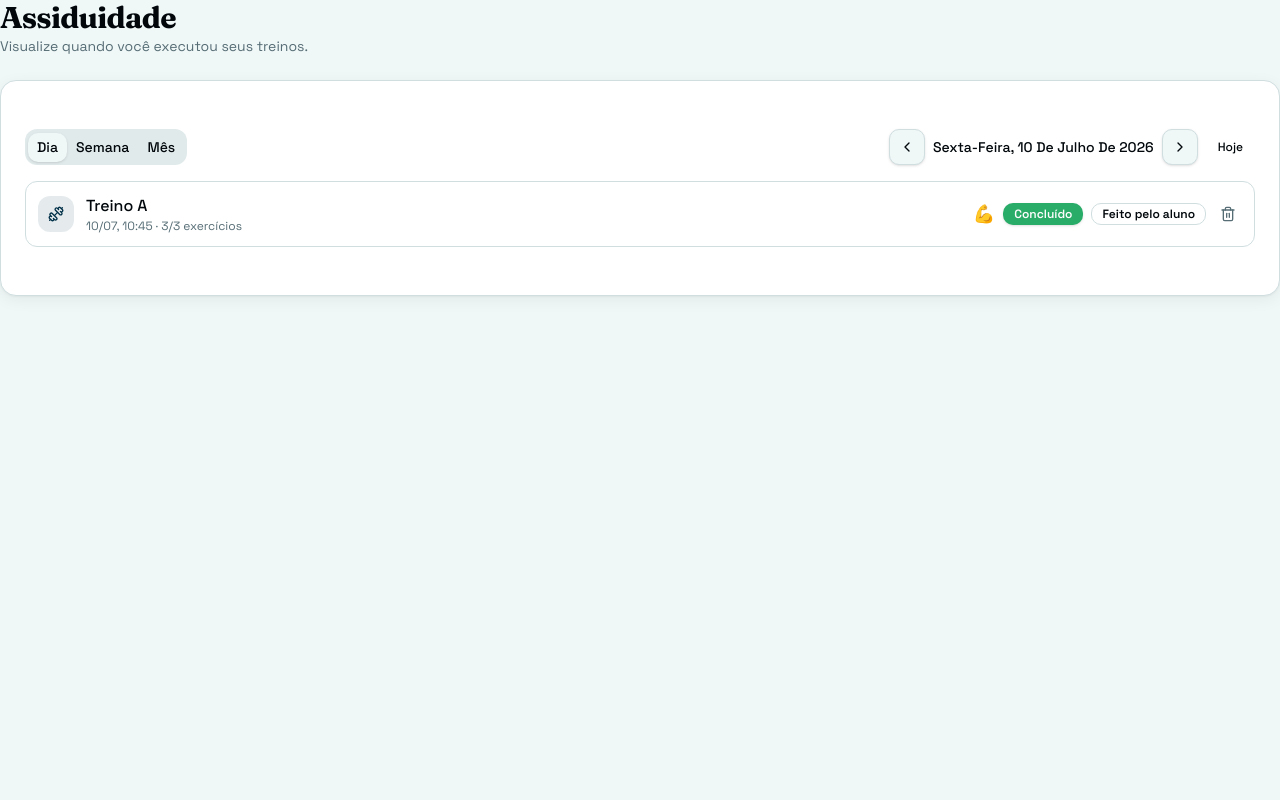
Scenario: AssiduidadePage › shows feedback and reactions inside the day's check-in detail
Expected: the text "Treino A" is shown, [86,195,147,216]
Click the tab "Semana". click: (103, 147)
box: [67,132,138,162]
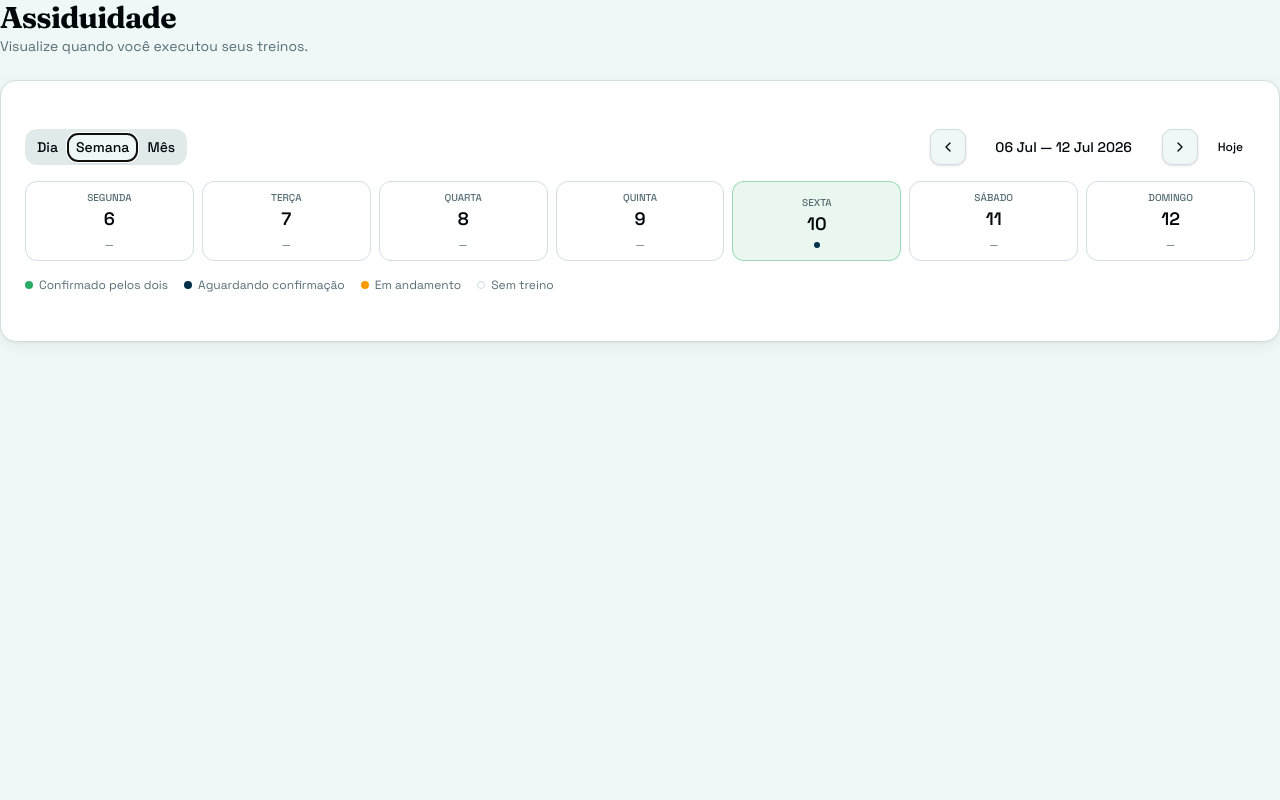
Click the button with aria-label "10/07/2026". click: (817, 221)
box: [732,181,901,261]
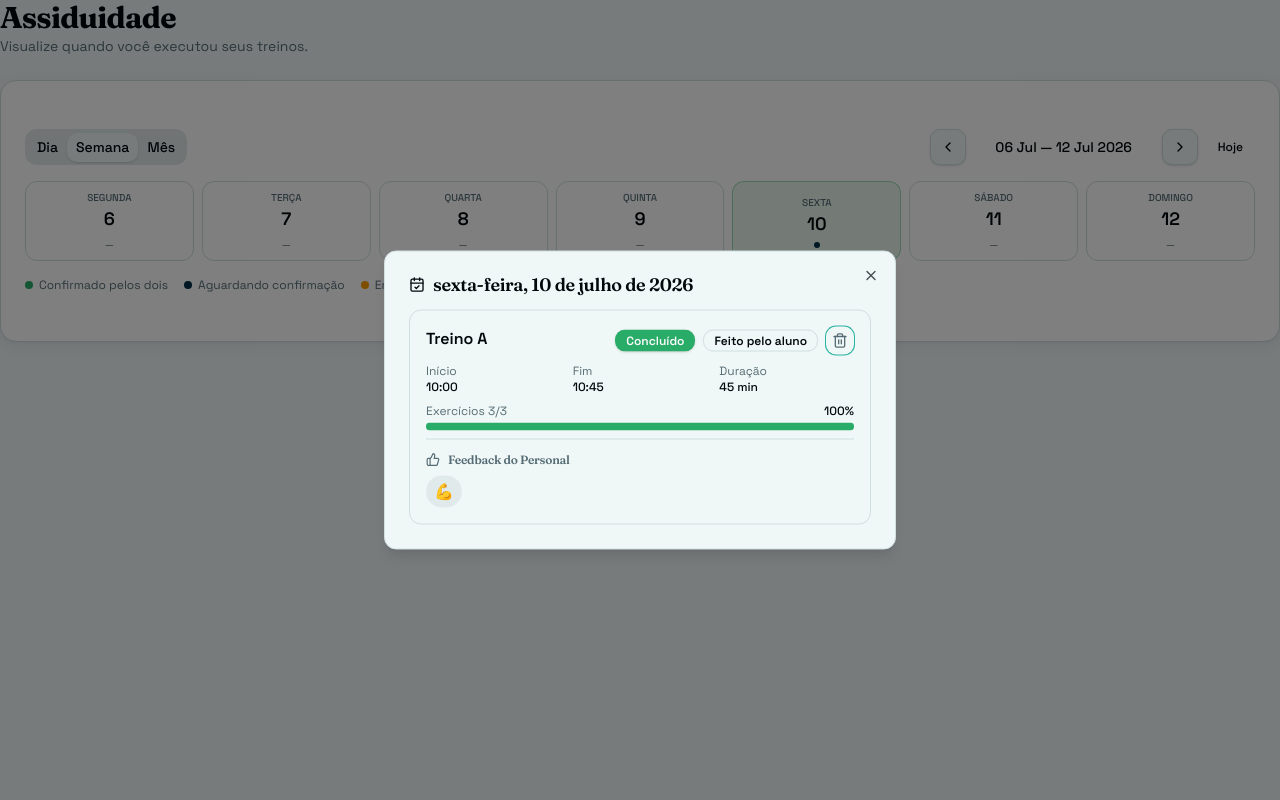
Expected: the text titled "Rafael Monteiro" reads "💪", [434,480,454,502]
